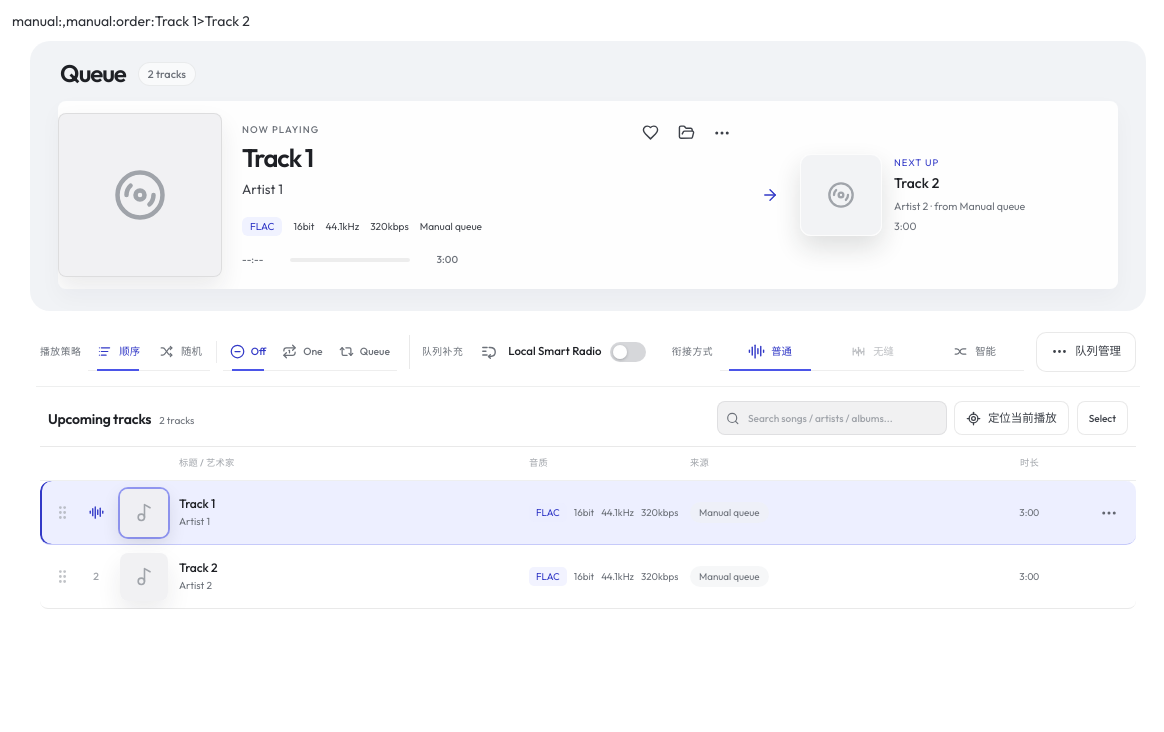
Test: QueuePage › confirms before clearing the queue
Expected: the list item that starts with "Track 2" is shown, [40,545,1136,609]
What coordinates should you click on to do the following:
click the button "队列管理"
I would click on:
 (1086, 352)
Its box is [1036,332,1136,372].
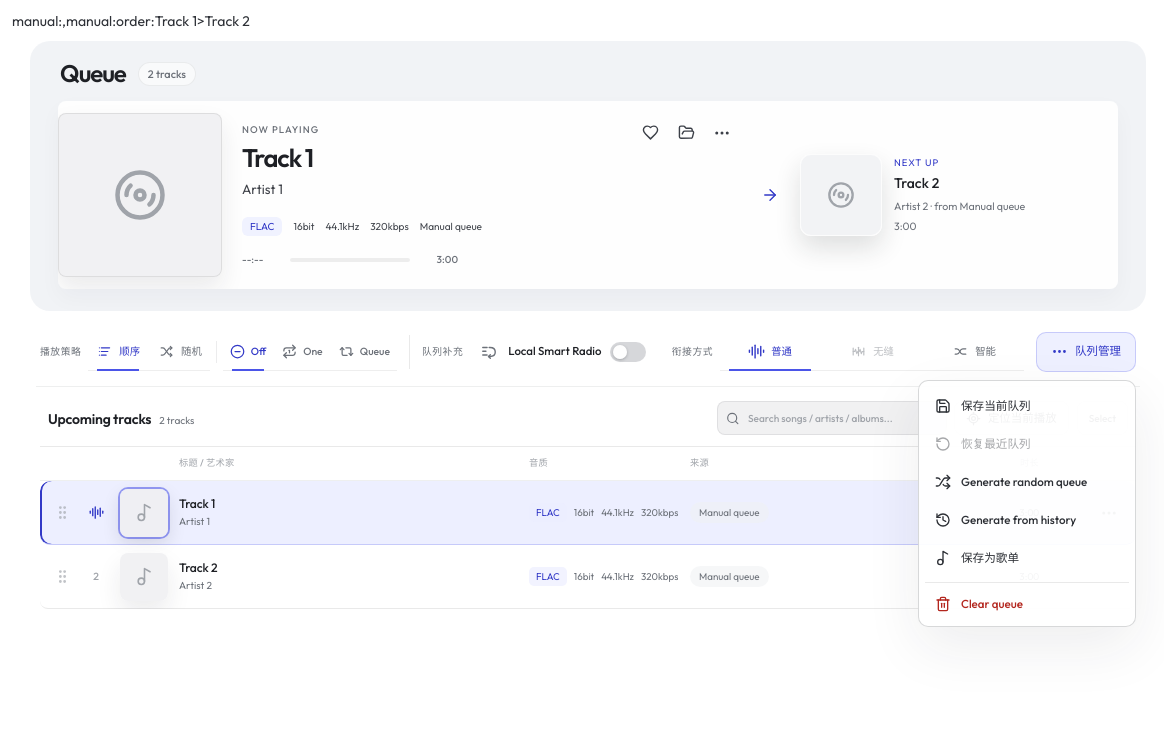
What coordinates should you click on to do the following:
click the menu item "Clear queue"
I would click on:
 (1027, 601)
Its box is [925,582,1129,620].
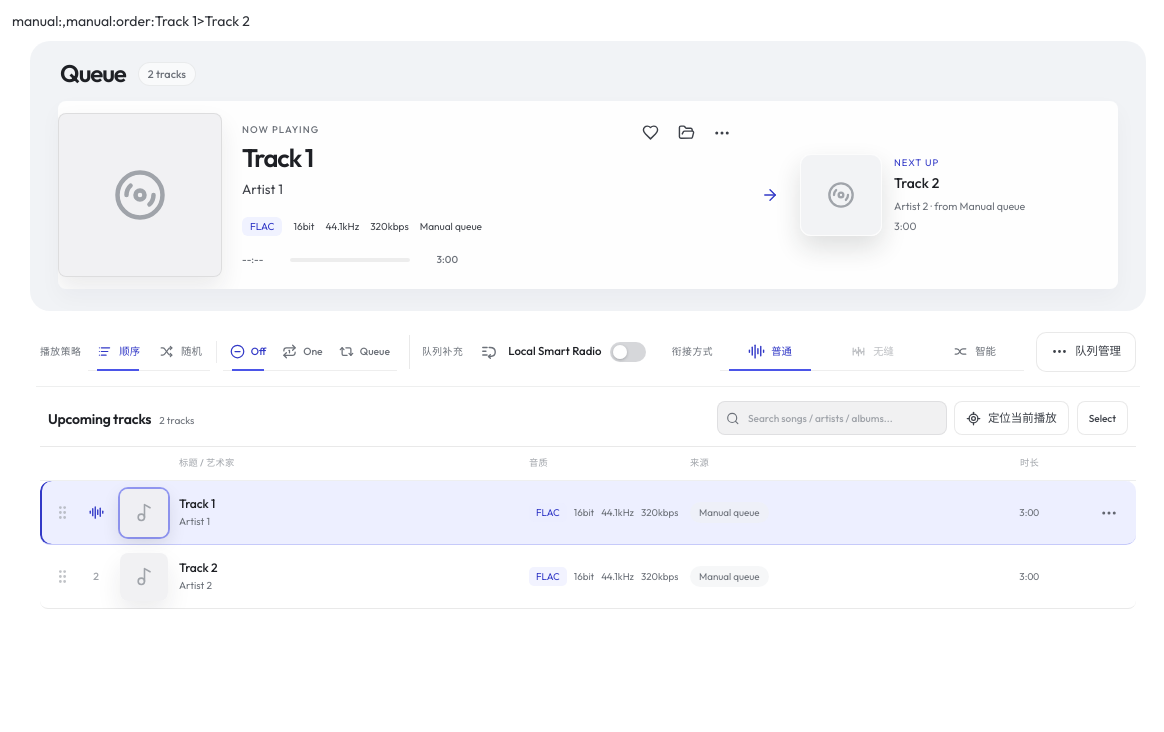
Expected: the text named "queue-order" reads "order:Track 1>Track 2", [116,12,250,30]
What coordinates should you click on to do the following:
click the button "队列管理"
I would click on:
 (1086, 352)
Its box is [1036,332,1136,372].
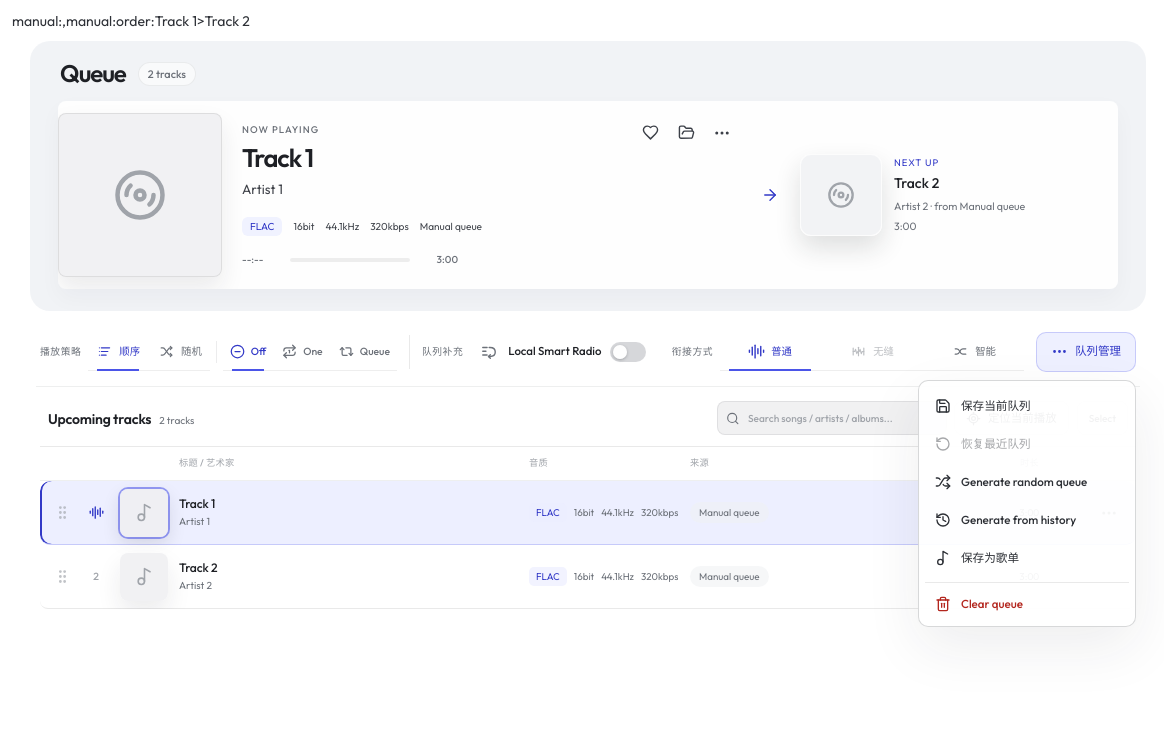
What coordinates should you click on to do the following:
click the menu item "Clear queue"
I would click on:
 (1027, 601)
Its box is [925,582,1129,620].
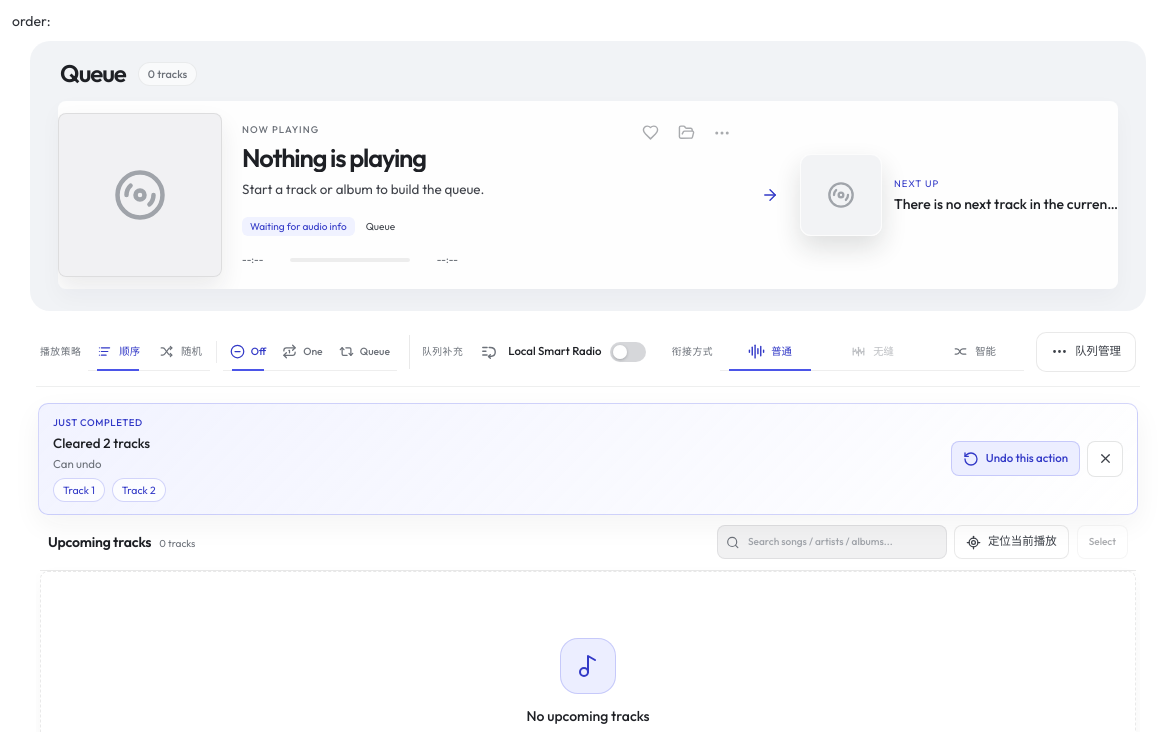
Expected: the text named "queue-order" reads "order:", [12,12,51,30]
